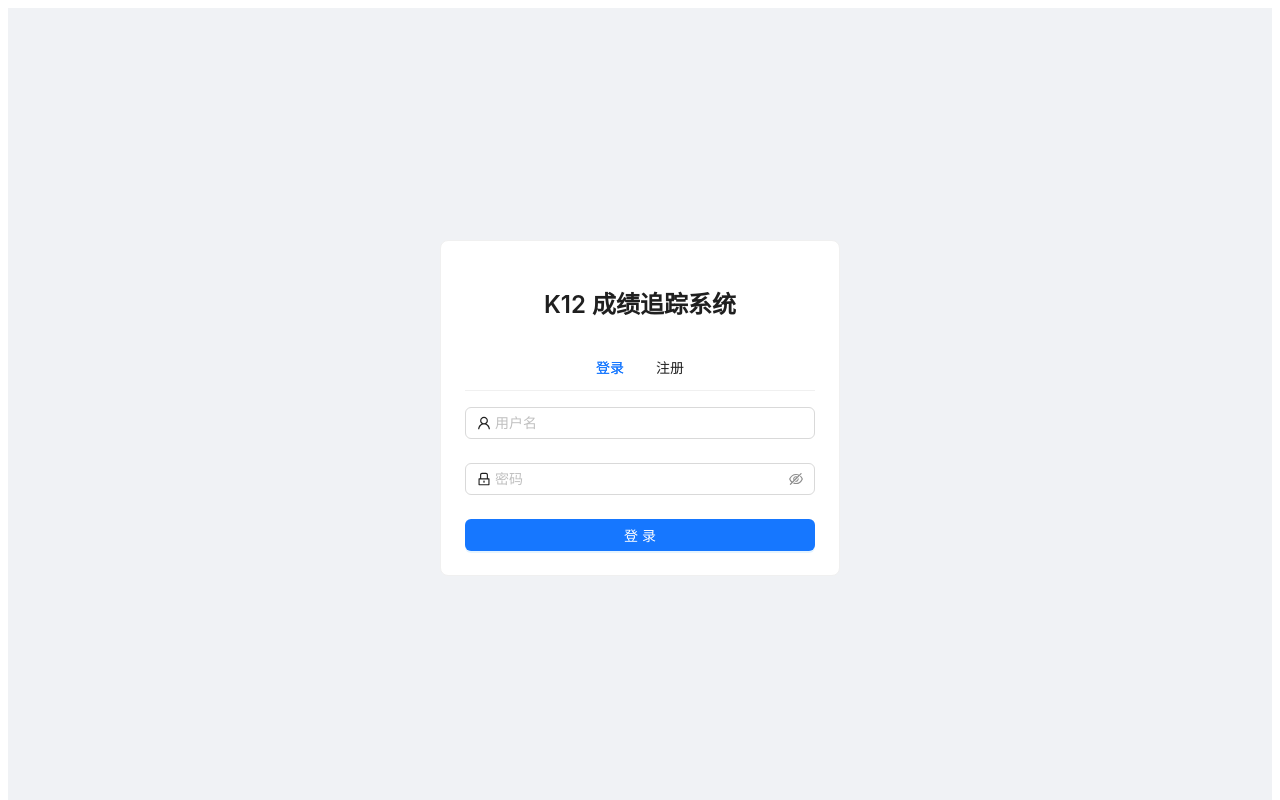
Test: Login Page › shows register tab when clicked
Click the tab "注册" at [670, 368], box x1=656 y1=357 x2=684 y2=379
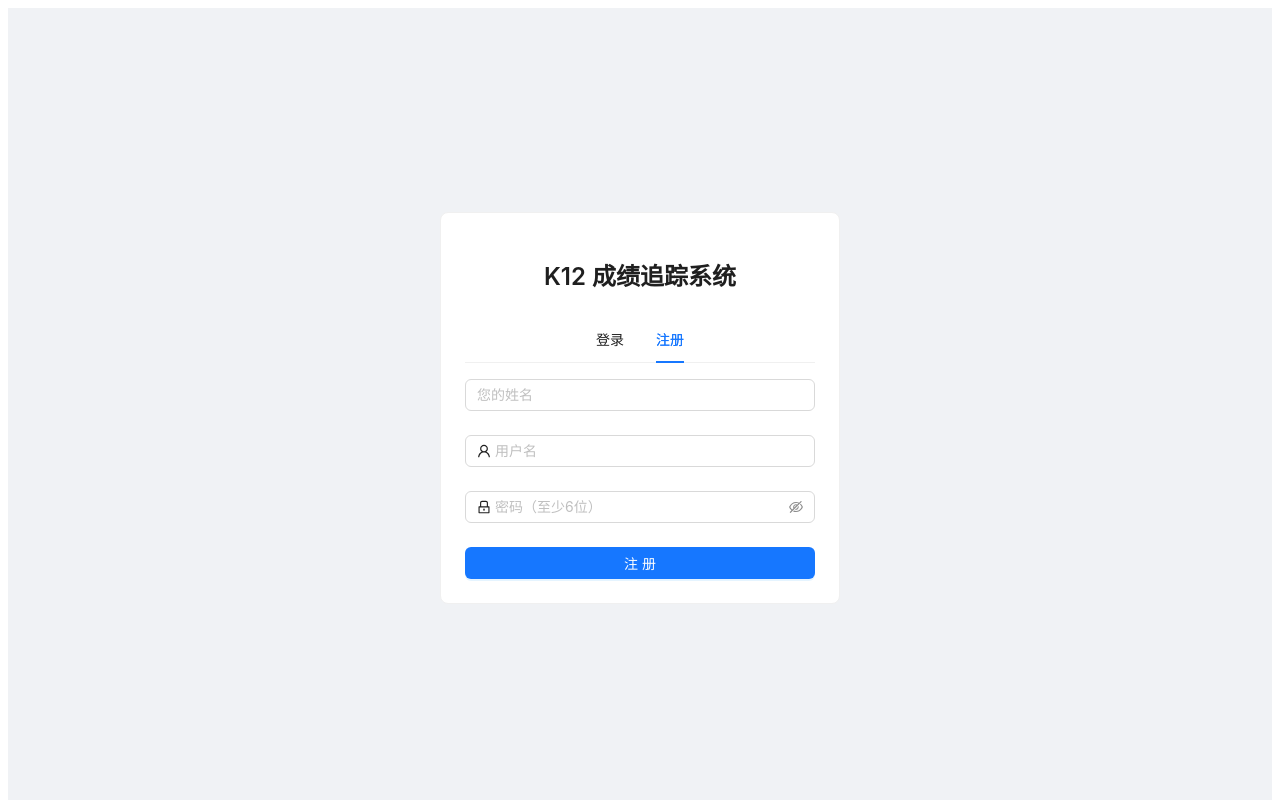
Expected: the field with placeholder "您的姓名" is shown, x1=465 y1=379 x2=815 y2=411
